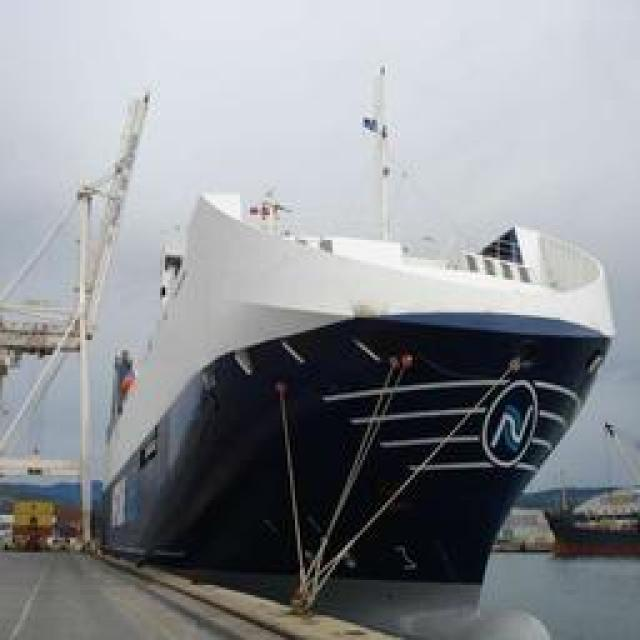CIV_Ship: (55, 106, 618, 594)
